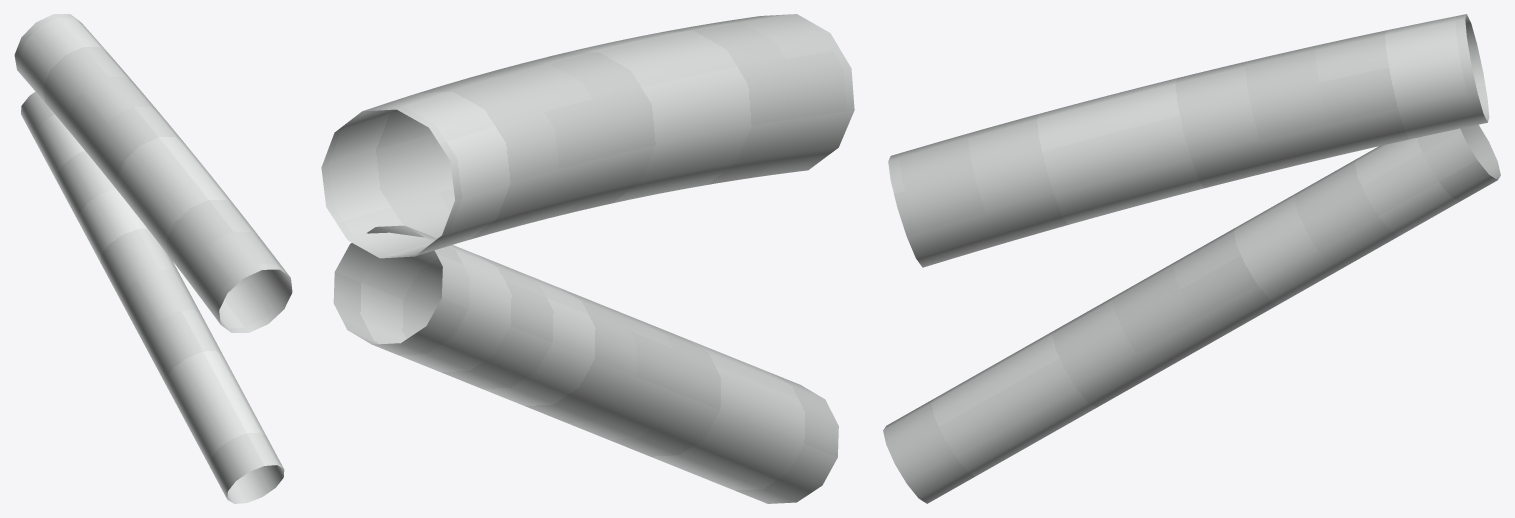
The model's file is luminairearm_truss12ftdouble_c5.obj.
3 views of the same model, side by side, from view 1: azimuth 30°, elevation 25°; view 2: azimuth 150°, elevation 25°; view 3: azimuth 270°, elevation 25° (orthographic). The views are drawn at different scales.
Parts seen in each view (by area): view 1: luminairearm_truss12ftdouble_c5; view 2: luminairearm_truss12ftdouble_c5; view 3: luminairearm_truss12ftdouble_c5.
Part boxes in pixels (box(x1,y1,x2,y2)): luminairearm_truss12ftdouble_c5: box(14, 14, 292, 503); luminairearm_truss12ftdouble_c5: box(321, 14, 854, 503); luminairearm_truss12ftdouble_c5: box(883, 14, 1500, 503).
Size of the model in its own units: 0.205 by 0.9281 by 1.08.
